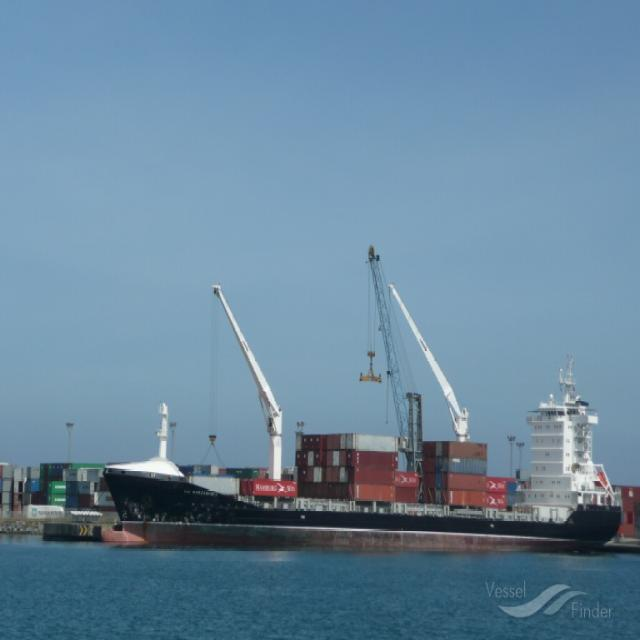Container Ship: (111, 412, 637, 548)
